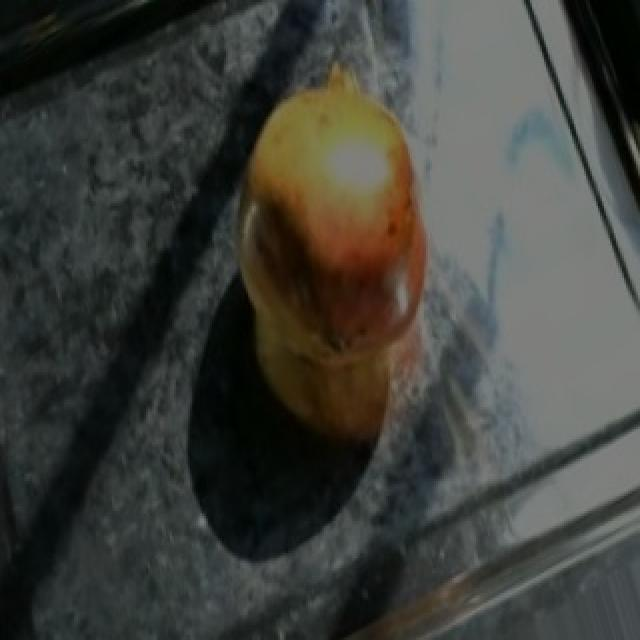fruit: (200, 69, 466, 397)
